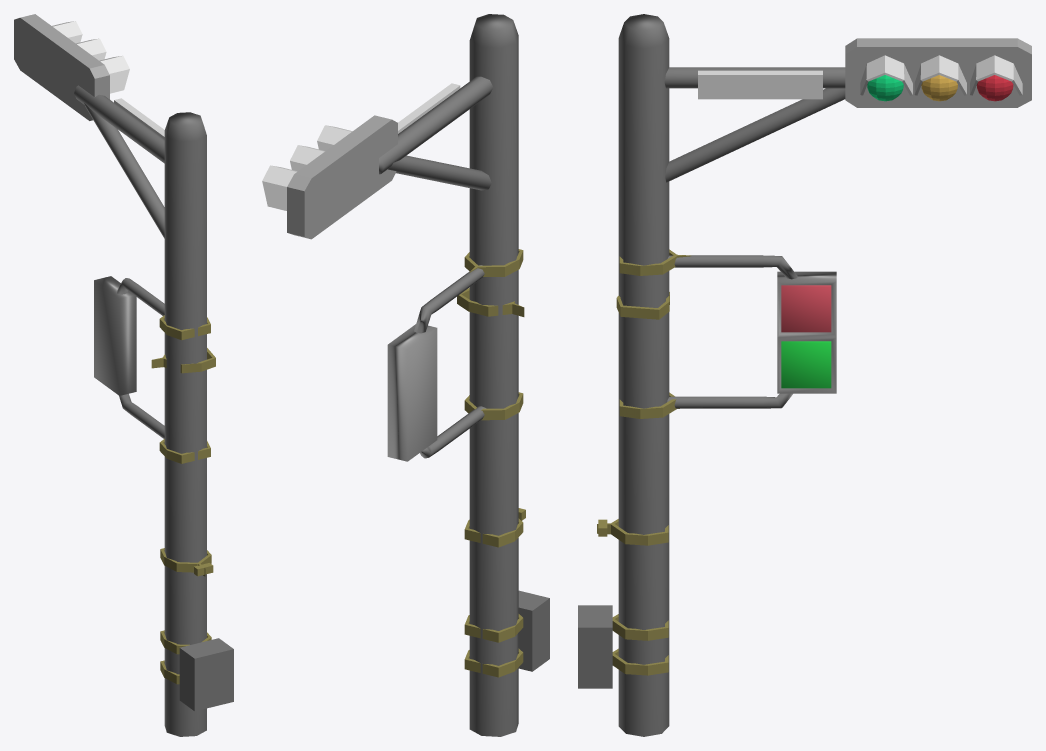
Rendered from 信号機.fbx.
The picture shows the model from 3 angles, left to right: view 1: azimuth 30°, elevation 25°; view 2: azimuth 150°, elevation 25°; view 3: azimuth 270°, elevation 25°; orthographic projection. The views are drawn at different scales.
Visible parts, largest first — view 1: Cylinder, Cube, Cube.001, Cube.003, Cylinder.002, Cylinder.001, Cylinder.003, Cylinder.011, Cylinder.012, Cylinder.007, Cylinder.013, Cylinder.006 (+4 smaller); view 2: Cylinder, Cube, Cube.001, Cylinder.001, Cube.003, Cylinder.002, Cylinder.011, Cylinder.005, Cylinder.012, Cylinder.007, Cylinder.008, Cylinder.009 (+6 smaller); view 3: Cylinder, Cube, Cube.004, Cylinder.002, Cube.003, Cube.001, Cube.005, Cube.006, Cylinder.001, Cylinder.011, Cylinder.012, Cylinder.004 (+10 smaller).
Boxes of the visible parts, left/top/right/bottom form: Cylinder: left=164, top=112, right=206, bottom=736; Cube: left=14, top=14, right=109, bottom=120; Cube.001: left=94, top=276, right=136, bottom=395; Cube.003: left=179, top=638, right=233, bottom=711; Cylinder.002: left=84, top=103, right=164, bottom=238; Cylinder.001: left=74, top=85, right=164, bottom=163; Cylinder.003: left=99, top=56, right=129, bottom=93; Cylinder.011: left=116, top=278, right=164, bottom=315; Cylinder.012: left=119, top=393, right=164, bottom=438; Cylinder.007: left=151, top=348, right=215, bottom=373; Cylinder.013: left=159, top=315, right=210, bottom=340; Cylinder.006: left=159, top=439, right=210, bottom=463; Cylinder: left=469, top=14, right=518, bottom=736; Cube: left=287, top=115, right=397, bottom=239; Cube.001: left=387, top=324, right=437, bottom=461; Cylinder.001: left=379, top=76, right=493, bottom=174; Cube.003: left=518, top=590, right=549, bottom=671; Cylinder.002: left=388, top=155, right=491, bottom=190; Cylinder.011: left=414, top=265, right=484, bottom=333; Cylinder.005: left=262, top=165, right=297, bottom=210; Cylinder.012: left=420, top=406, right=486, bottom=458; Cylinder.007: left=457, top=288, right=524, bottom=316; Cylinder.008: left=464, top=518, right=523, bottom=547; Cylinder.009: left=464, top=614, right=523, bottom=642; Cylinder: left=618, top=14, right=669, bottom=736; Cube: left=845, top=38, right=1031, bottom=107; Cube.004: left=698, top=70, right=822, bottom=99; Cylinder.002: left=665, top=88, right=845, bottom=182; Cube.003: left=578, top=605, right=612, bottom=688; Cube.001: left=777, top=271, right=836, bottom=393; Cube.005: left=781, top=285, right=831, bottom=332; Cube.006: left=781, top=341, right=831, bottom=388; Cylinder.001: left=664, top=67, right=845, bottom=88; Cylinder.011: left=667, top=255, right=797, bottom=279; Cylinder.012: left=667, top=393, right=792, bottom=408; Cylinder.004: left=914, top=55, right=966, bottom=95.
Size of the model in its own units: 286 by 2310 by 1350.
